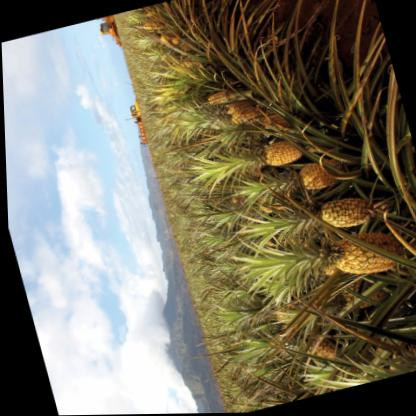----: (269, 218, 400, 297), (248, 186, 376, 249), (212, 132, 306, 185), (249, 156, 342, 206)
